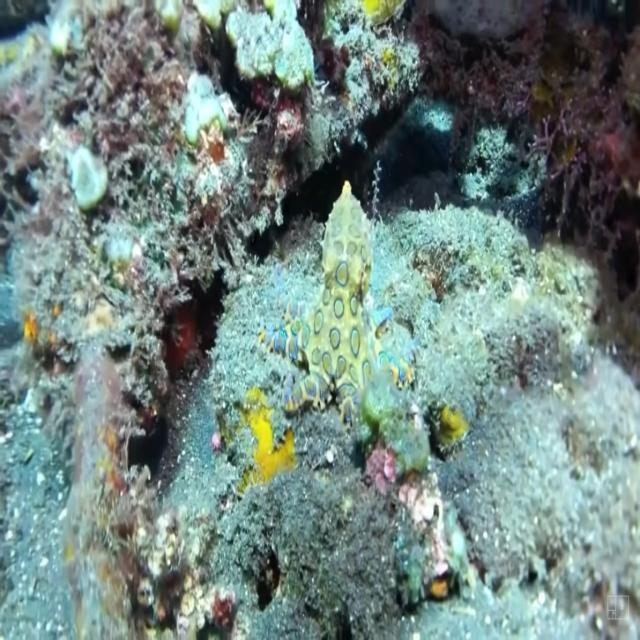blue_ringed_octopus: (259, 178, 413, 428)
